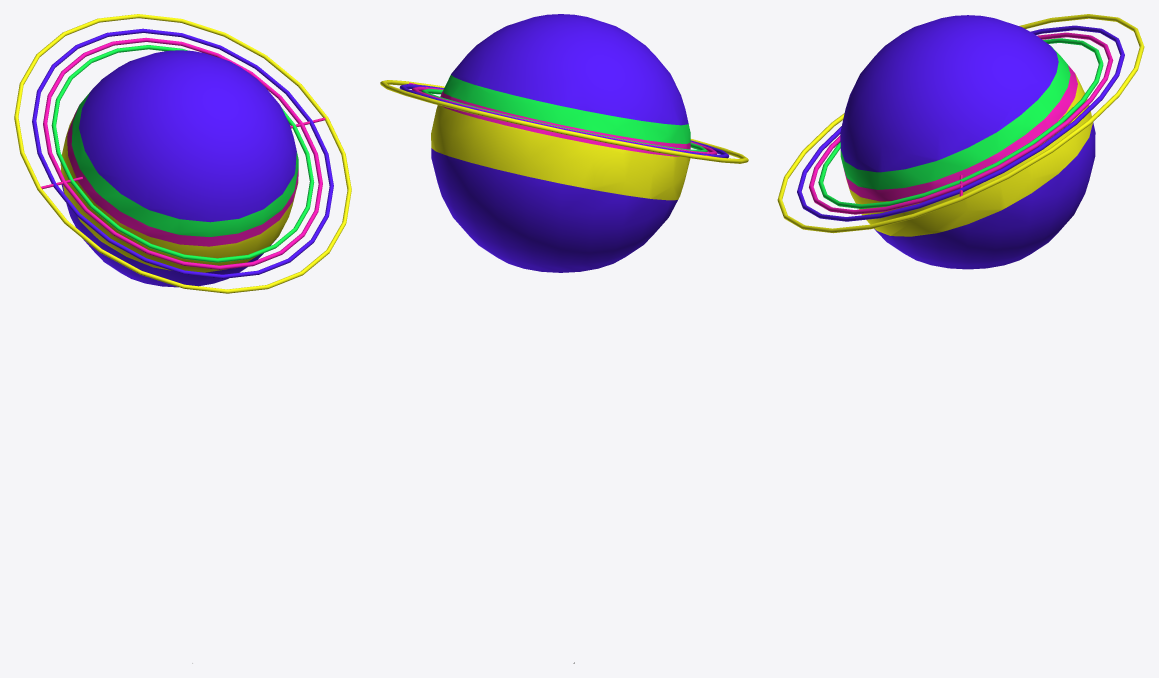
Rendered from addOn_SpaceOrb.dae.
The picture shows the model from 3 angles, left to right: view 1: azimuth 30°, elevation 25°; view 2: azimuth 150°, elevation 25°; view 3: azimuth 270°, elevation 25°; orthographic projection. The views are drawn at different scales.
Parts seen in each view (by area): view 1: main2 (×5), group_0 (×4); view 2: main2 (×5), group_0 (×4); view 3: main2 (×5), group_0 (×4).
Part boxes in pixels (left/top/right/bottom): main2 (×5): left=60, top=50, right=298, bottom=287; group_0 (×4): left=14, top=14, right=351, bottom=293; main2 (×5): left=431, top=14, right=690, bottom=272; group_0 (×4): left=380, top=80, right=748, bottom=163; main2 (×5): left=840, top=15, right=1095, bottom=269; group_0 (×4): left=777, top=14, right=1144, bottom=233.
Size of the model in its own units: 114 by 116 by 221.
